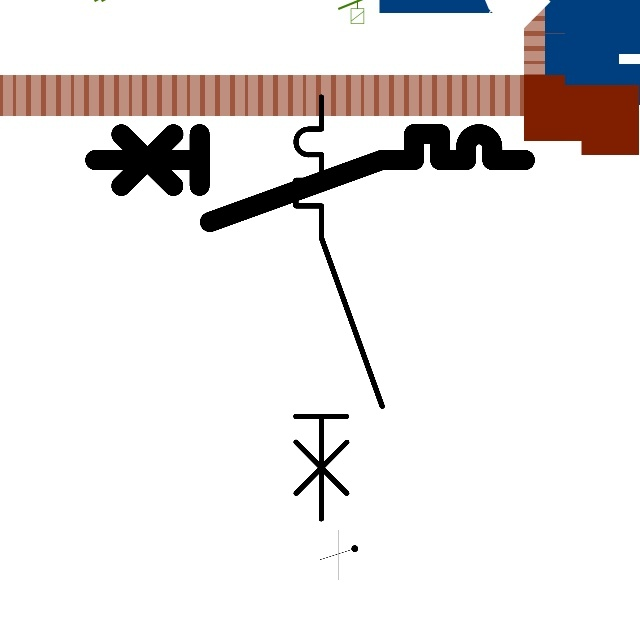interruptor_termomagnetico: (84, 123, 536, 233), (285, 86, 393, 530)
